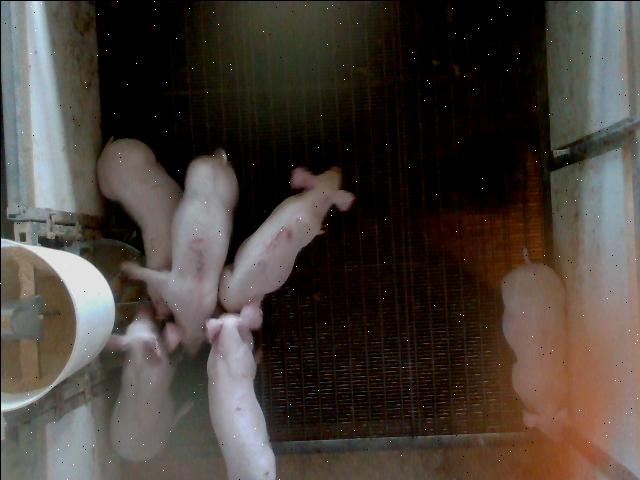pig-3: (129, 149, 238, 352)
pig-5: (219, 166, 354, 311)
